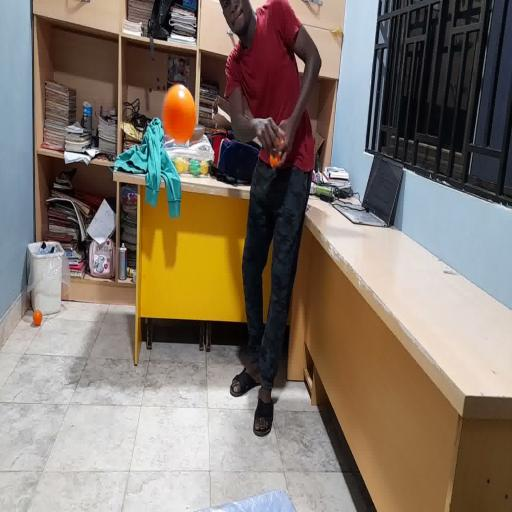plastic-ball: (161, 79, 198, 147)
